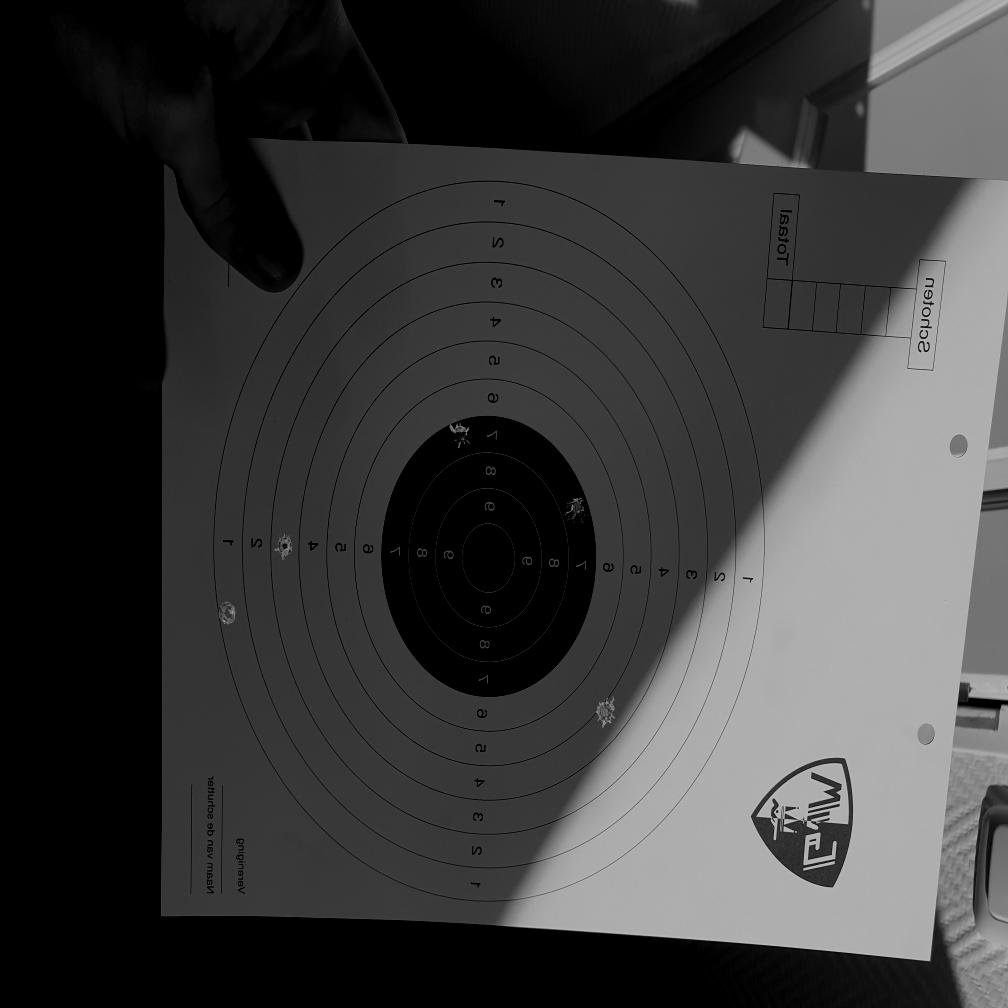1: (218, 601, 236, 624)
3: (276, 535, 292, 558)
5: (596, 697, 615, 726)
7: (449, 421, 472, 450), (564, 497, 587, 524)
Target: (212, 176, 766, 905)
black_contour: (382, 414, 596, 696)
